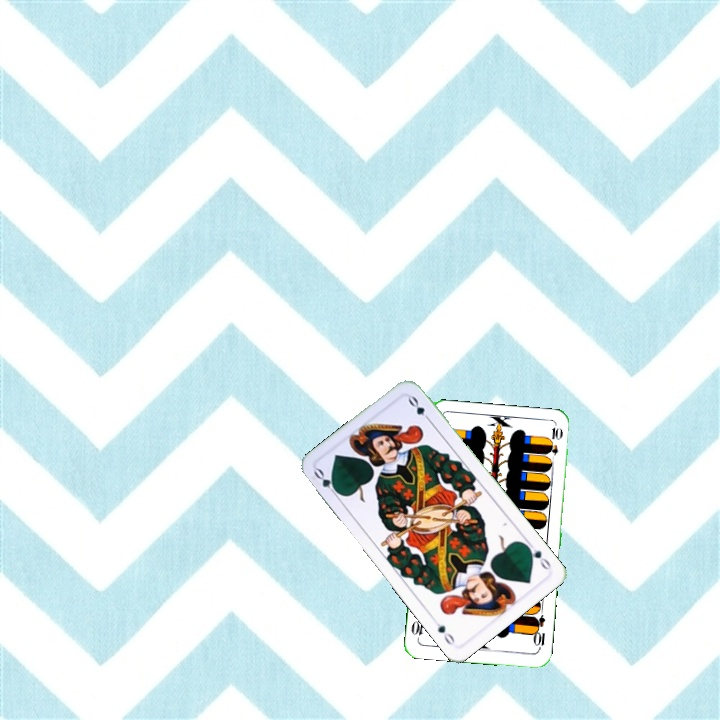E10: (529, 612, 548, 652)
GO: (521, 537, 554, 573), (310, 464, 343, 500)
